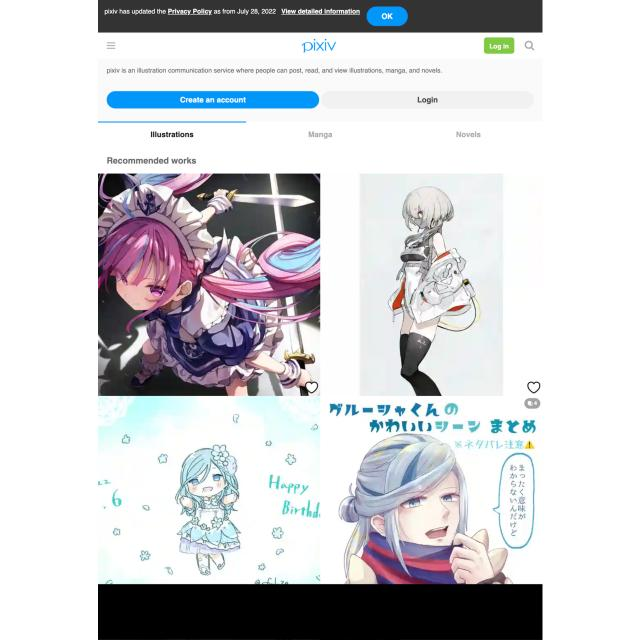logo: (297, 39, 339, 55)
navigation: (106, 40, 117, 51)
